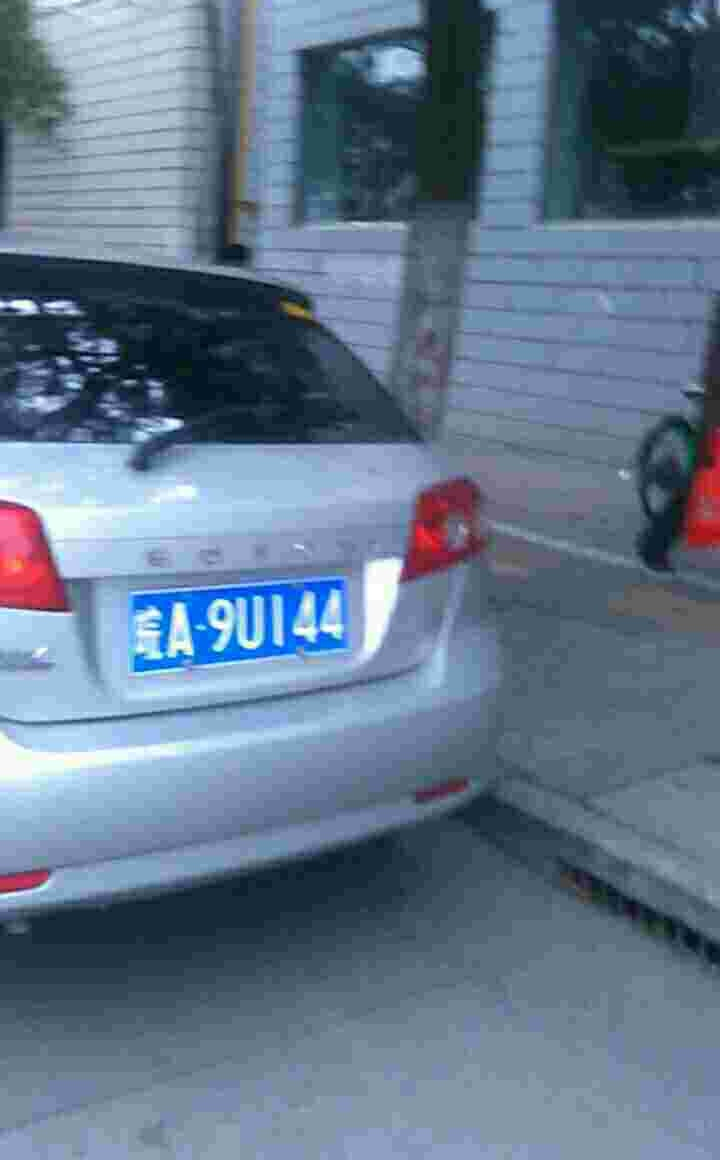car: (122, 585, 360, 664)
